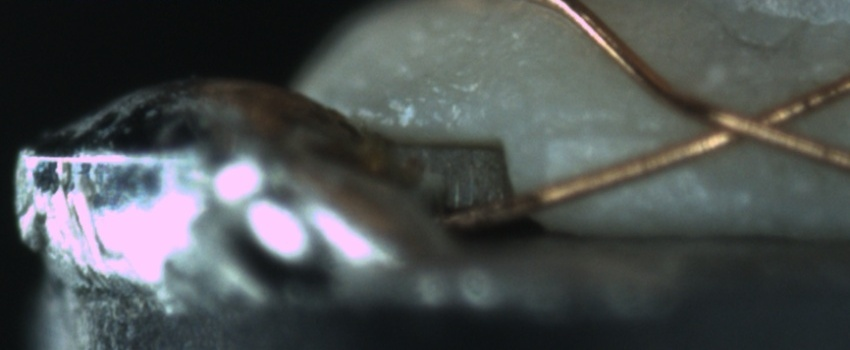CL: (657, 82, 847, 163)
DL: (543, 106, 662, 168)
